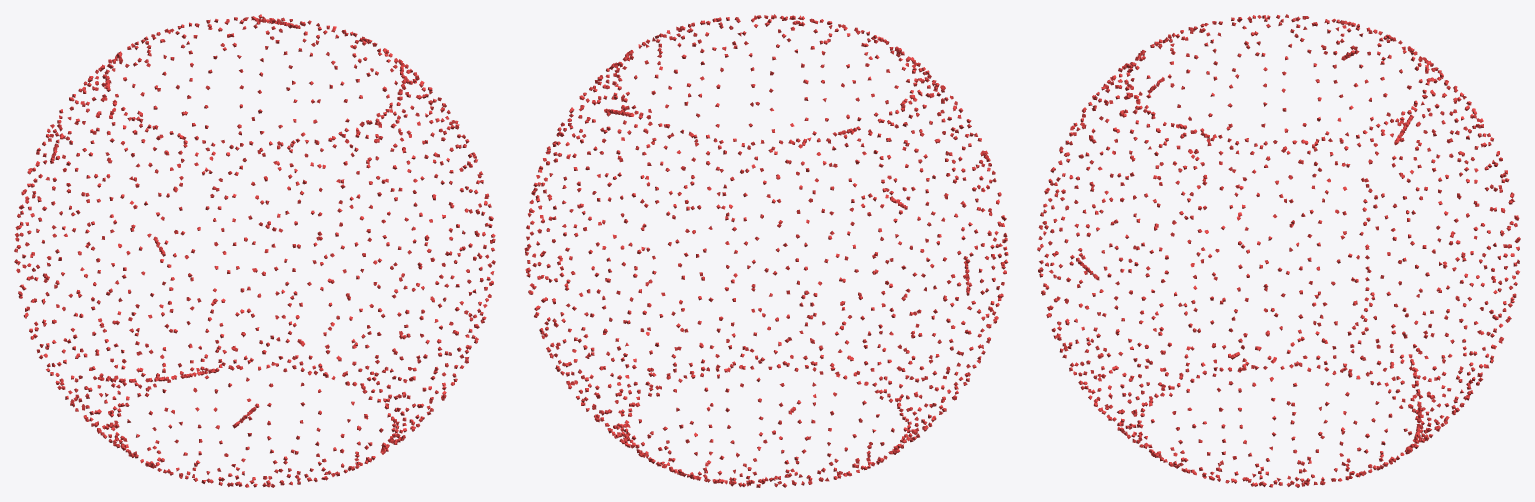
The model's file is Starlink - 2m.glb.
3 renders of one model, left to right at view 1: azimuth 30°, elevation 25°; view 2: azimuth 150°, elevation 25°; view 3: azimuth 270°, elevation 25°, orthographic.
Visible parts, largest first — view 1: Starlink - 2m; view 2: Starlink - 2m; view 3: Starlink - 2m.
Boxes of the visible parts, x1,y1,x2,y2 form: Starlink - 2m: [14, 14, 495, 487]; Starlink - 2m: [524, 14, 1008, 487]; Starlink - 2m: [1037, 14, 1520, 487].
Bounding box in the file's own units: 0.3505 × 0.343 × 0.3507.
